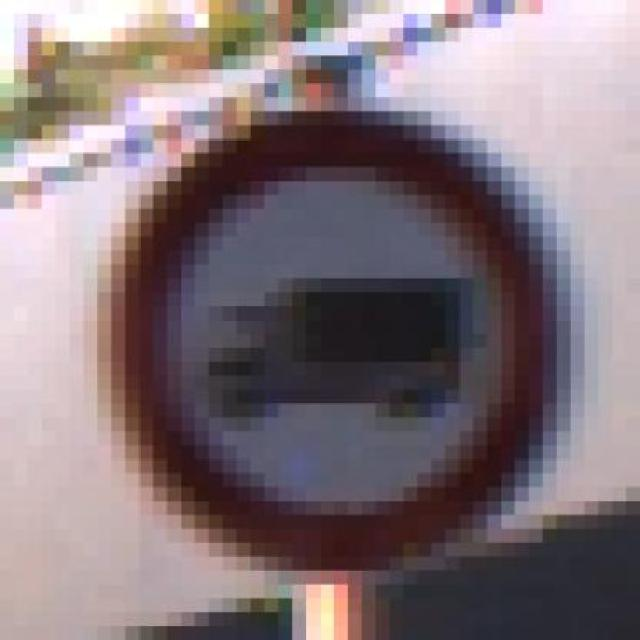Truck traffic is prohibited: (56, 97, 626, 585)
